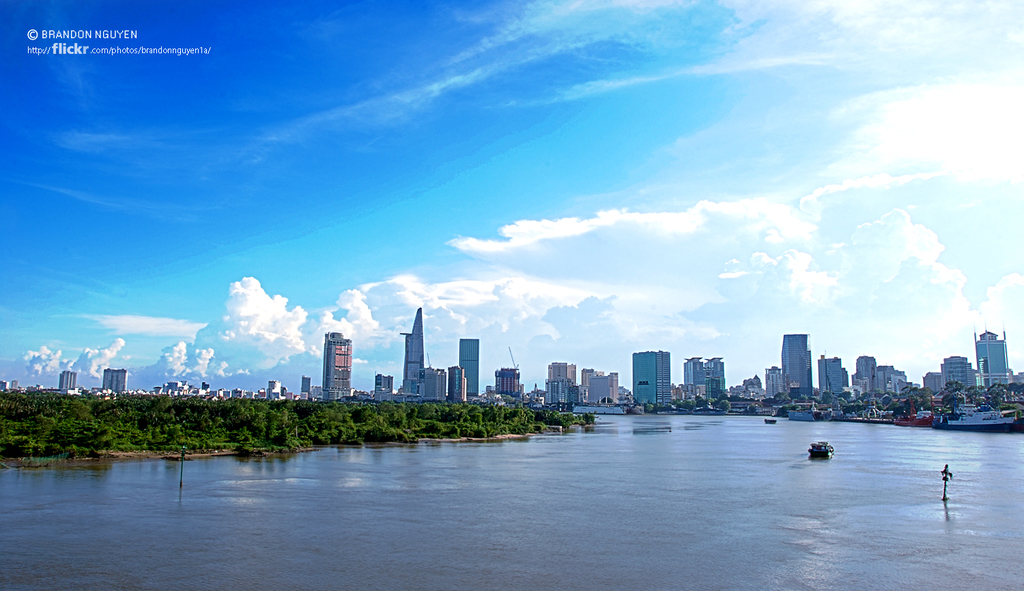Tree: (0, 388, 591, 468)
